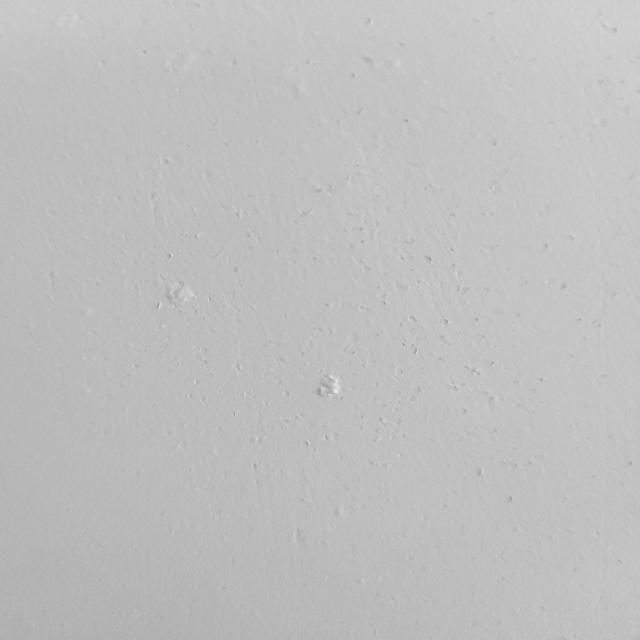rough and patchy surface: (13, 183, 618, 526)
